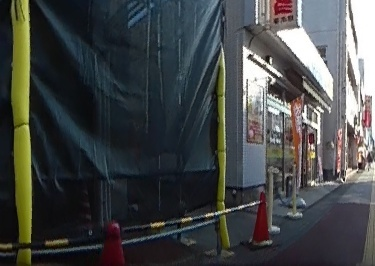person: (364, 151, 372, 169)
